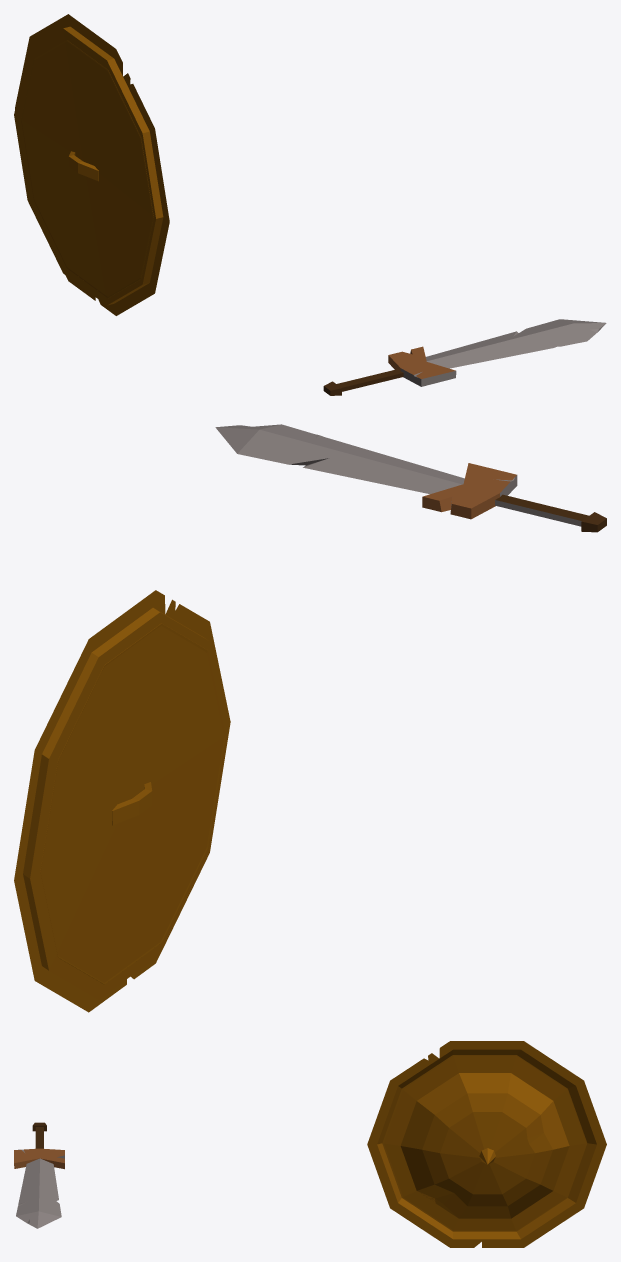
Rendered from shield.fbx.
3 renders of one model, top to bottom at view 1: azimuth 30°, elevation 25°; view 2: azimuth 150°, elevation 25°; view 3: azimuth 270°, elevation 25°, orthographic. The views are drawn at different scales.
Parts seen in each view (by area): view 1: Cylinder, Cube, Cube.002, Cube.001; view 2: Cylinder, Cube, Cube.002, Cube.001; view 3: Cylinder, Cube, Cube.002, Cube.001.
Part boxes in pixels (x1=…): Cylinder: x1=14, y1=14, x2=169, y2=315; Cube: x1=400, y1=319, x2=606, y2=386; Cube.002: x1=388, y1=346, x2=455, y2=378; Cube.001: x1=323, y1=369, x2=403, y2=395; Cylinder: x1=14, y1=590, x2=230, y2=1012; Cube: x1=215, y1=424, x2=581, y2=526; Cube.002: x1=422, y1=463, x2=516, y2=519; Cube.001: x1=495, y1=494, x2=606, y2=532; Cylinder: x1=367, y1=1041, x2=606, y2=1247; Cube: x1=16, y1=1149, x2=64, y2=1228; Cube.002: x1=14, y1=1148, x2=64, y2=1169; Cube.001: x1=32, y1=1122, x2=46, y2=1148.
Size of the model in its own units: 356 by 326 by 848.
